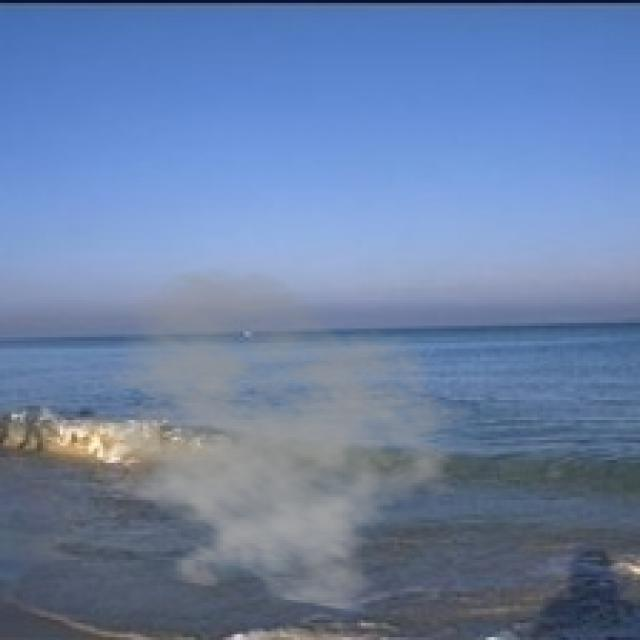Smoke: (62, 266, 474, 614)
